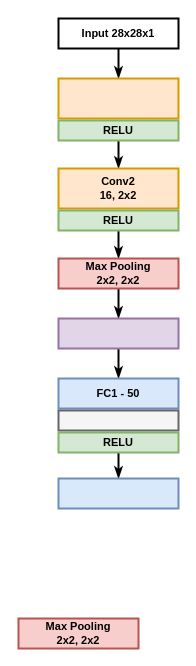
Some shapes in this 196 by 666 pixel diagram are drawn without their labels. The centre of each missing label's shape, as x and y in pixels:
"Conv1 8, 2x2" belongs at [118,98].
"Dropout 0.3" belongs at [118,420].
"FC2" belongs at [118,493].
"GAP" belongs at [118,333].
